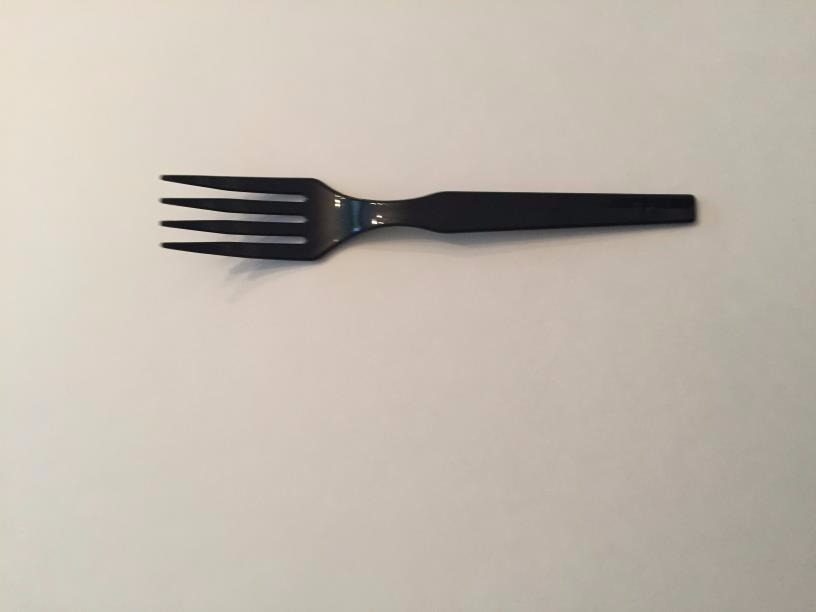fork: (127, 149, 732, 274)
